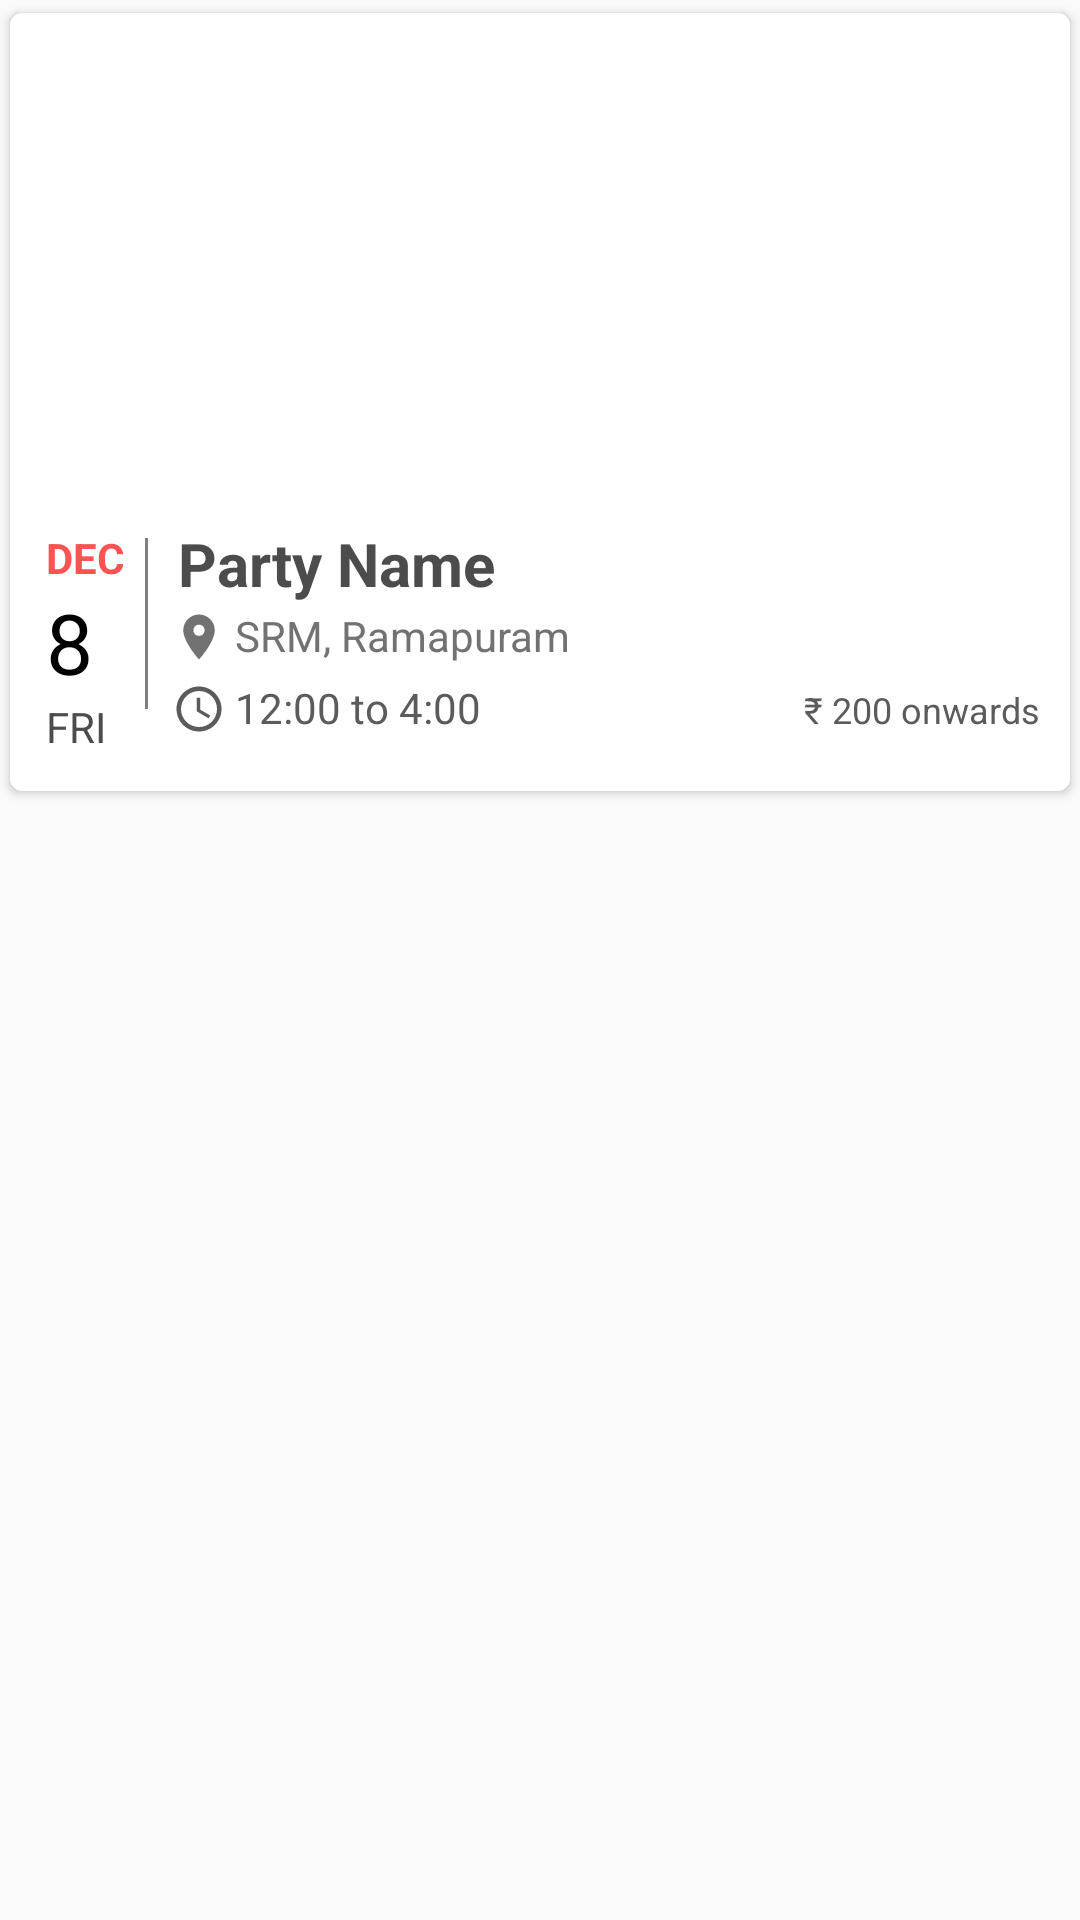

Icons on this 1080×1920 Android screen, each with its box as box=[x1, y1, x2, y2]:
access time: box=[176, 686, 222, 732]
location on: box=[183, 614, 215, 659]
